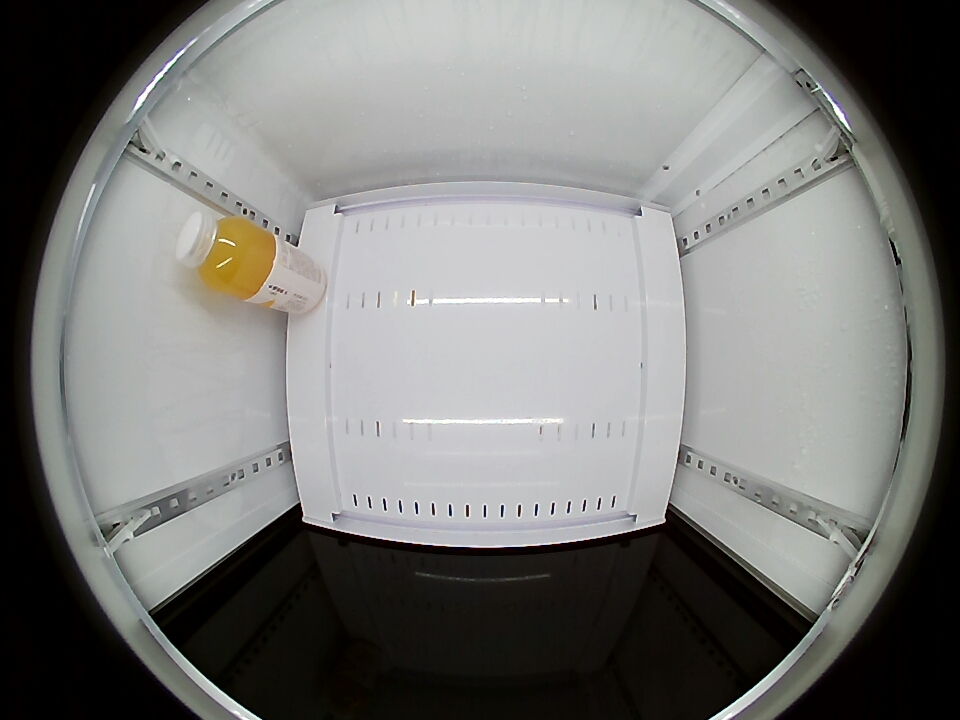weic: (175, 211, 276, 300)
